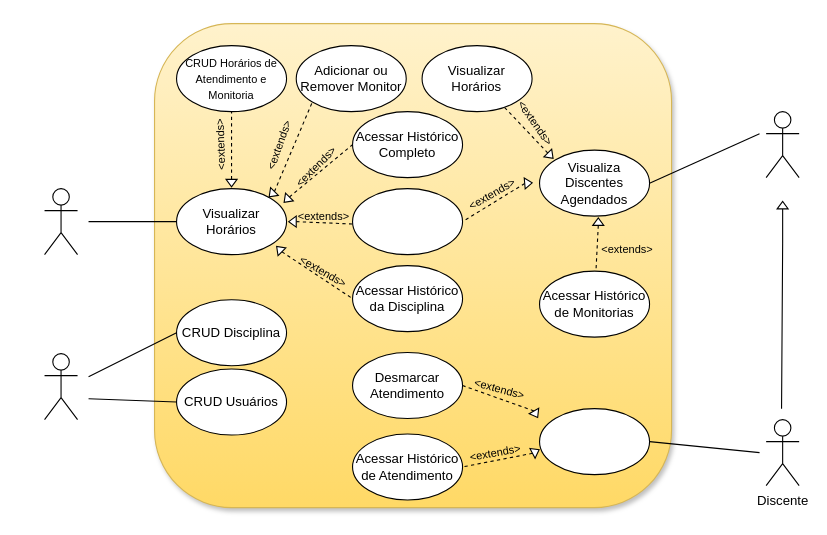
Some shapes in this 827 by 535 pixel diagram are drawn without their labels. Each missing label, with the centre of its shape:
"Agendar Atendimento" goes at point (594, 441).
"Docente" goes at point (60, 221).
"Marcar Presença" goes at point (407, 221).
"Monitor" goes at point (782, 144).
"Super Usuário" goes at point (60, 386).
